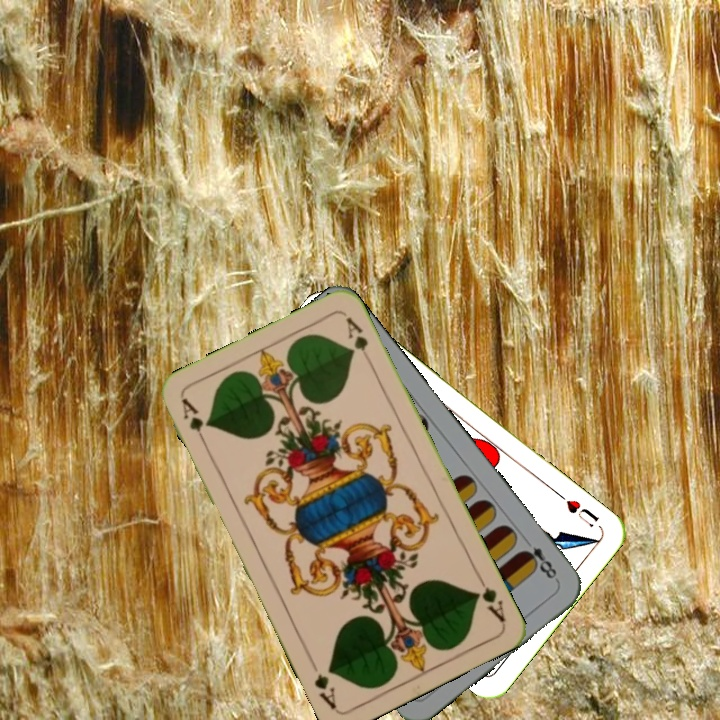E8: (517, 534, 561, 584)
GA: (470, 570, 508, 625), (177, 394, 211, 450)
HU: (553, 489, 601, 530)
